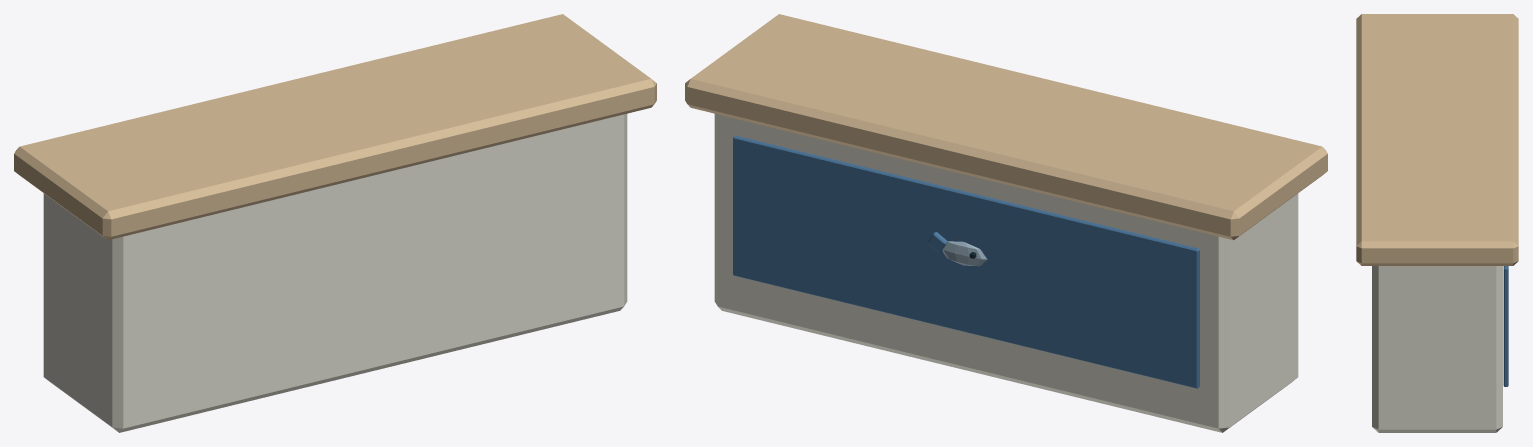
The model's file is bar_counter.glb.
3 renders of one model, left to right at view 1: azimuth 30°, elevation 25°; view 2: azimuth 150°, elevation 25°; view 3: azimuth 270°, elevation 25°, orthographic. The views are drawn at different scales.
Visible parts, largest first — view 1: base, countertop; view 2: countertop, panel, base, whale_badge; view 3: countertop, base, panel.
Part boxes in pixels (bbox=[...]): base: bbox=[43, 114, 627, 432]; countertop: bbox=[14, 14, 656, 240]; countertop: bbox=[685, 14, 1327, 240]; panel: bbox=[733, 135, 1199, 388]; base: bbox=[714, 114, 1298, 432]; whale_badge: bbox=[942, 241, 987, 266]; countertop: bbox=[1356, 14, 1518, 265]; base: bbox=[1372, 266, 1502, 432]; panel: bbox=[1503, 266, 1508, 386].
Size of the model in its own units: 2.8 by 1.13 by 0.83.
